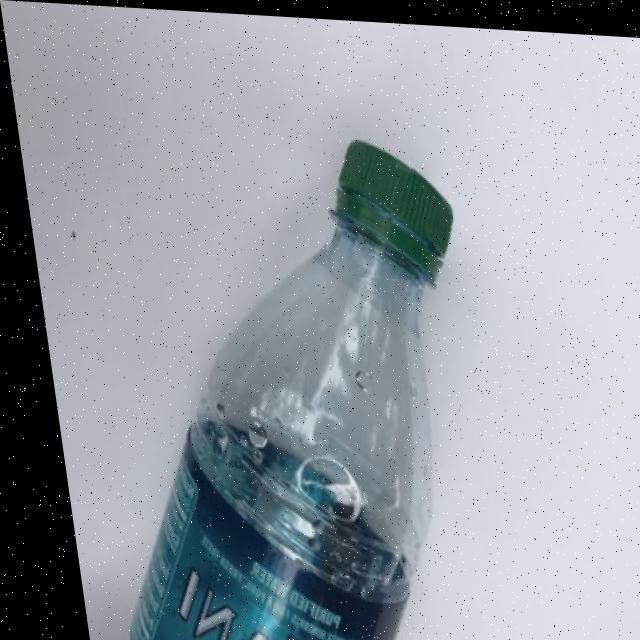plasticbottlecap: (303, 115, 462, 278)
